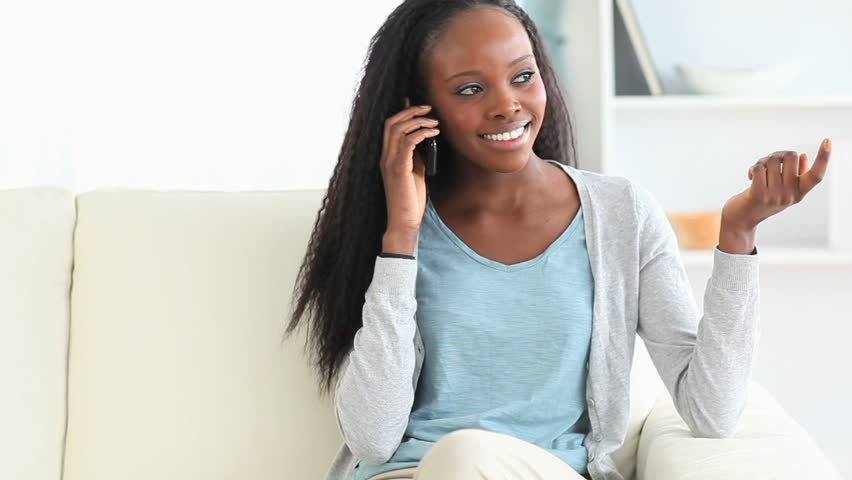phone: (378, 104, 446, 175)
talk: (380, 53, 547, 195)
